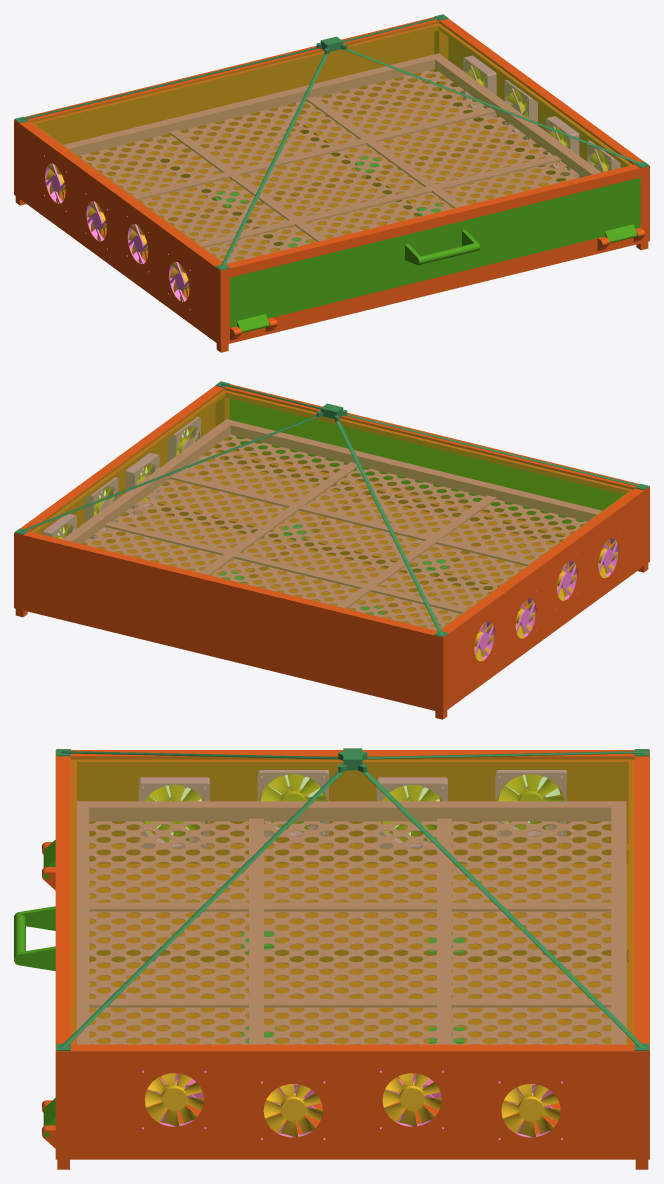
The model's file is SeparateDryers-Assembly.gltf.
3 views of the same model, one above another, from view 1: azimuth 30°, elevation 25°; view 2: azimuth 150°, elevation 25°; view 3: azimuth 270°, elevation 25° (orthographic). The views are drawn at different scales.
Parts seen in each view (by area): view 1: Poly_Lid001, Module001, Tray001, Door002, Camera_Mounting, FanCasing003, FanCasing001, FanCasing002; view 2: Poly_Lid001, Module001, Tray001, Door002, Camera_Mounting, FanCasing001, FanCasing, FanCasing002; view 3: Poly_Lid001, Module001, Tray001, Camera_Mounting, Door002, Fan001, Fan002, Fan, Fan003, FanCasing004, Fan007, Fan005 (+5 smaller).
Boxes of the visible parts, x1,y1,x2,y2 form: Poly_Lid001: (29, 21, 633, 263); Module001: (14, 17, 649, 352); Tray001: (58, 53, 601, 263); Door002: (230, 177, 640, 335); Camera_Mounting: (14, 14, 649, 270); FanCasing003: (463, 55, 496, 117); FanCasing001: (545, 116, 579, 177); FanCasing002: (504, 80, 537, 139); Poly_Lid001: (30, 388, 634, 630); Module001: (14, 384, 649, 719); Tray001: (62, 419, 610, 630); Door002: (229, 399, 623, 527); Camera_Mounting: (14, 381, 649, 637); FanCasing001: (126, 453, 159, 514); FanCasing: (167, 416, 200, 470); FanCasing002: (84, 477, 118, 538); Poly_Lid001: (71, 756, 634, 1044); Module001: (42, 750, 649, 1169); Tray001: (77, 801, 626, 1098); Camera_Mounting: (56, 748, 649, 1050); Door002: (14, 840, 55, 1137); Fan001: (263, 1084, 322, 1137); Fan002: (382, 1073, 441, 1126); Fan: (145, 1073, 203, 1126); Fan003: (501, 1084, 560, 1137); FanCasing004: (138, 777, 209, 848); Fan007: (498, 774, 563, 830); Fan005: (260, 774, 325, 829).
Bounding box in the file's own units: 1.2 × 0.493 × 1.07.
